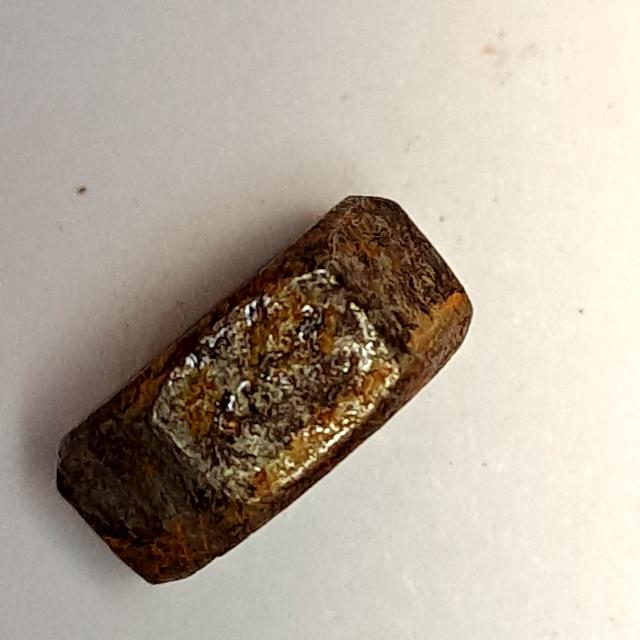Side_Rust: (40, 184, 482, 603)
